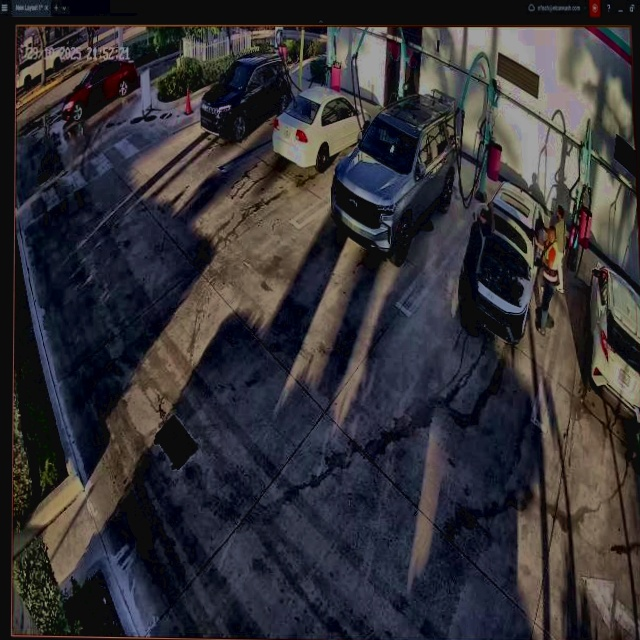Car: (331, 97, 462, 260), (457, 179, 547, 344), (202, 55, 292, 149), (273, 89, 372, 167)
